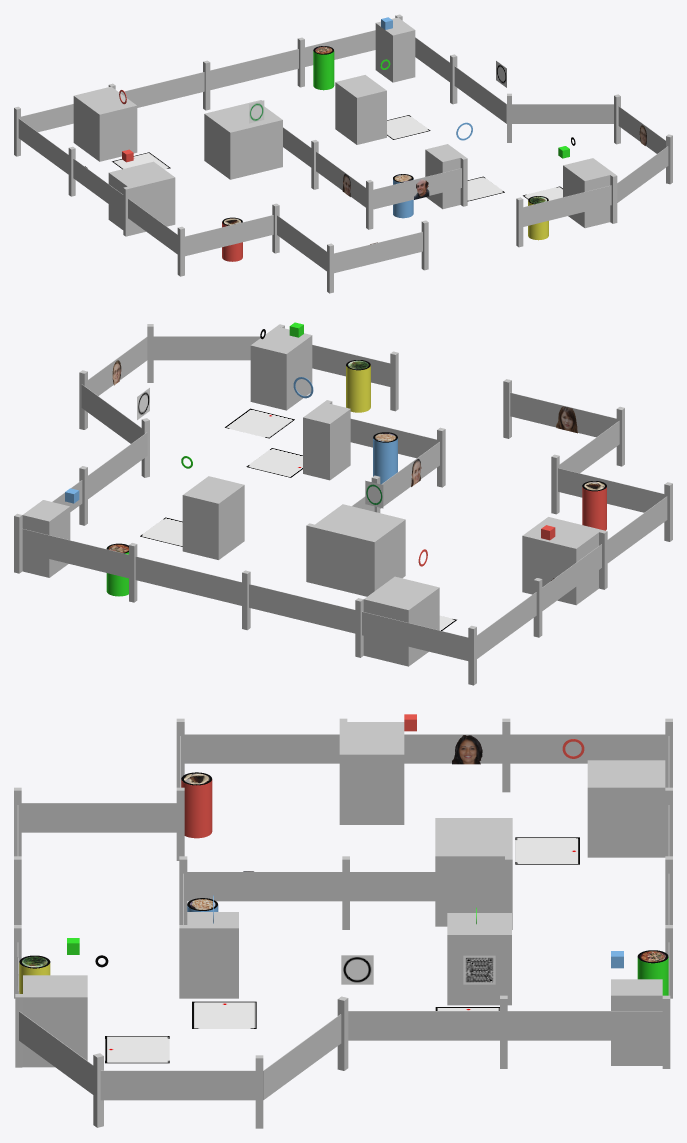
File: rins_task3_3.dae
3 renders of one model, top to bottom at view 1: azimuth 30°, elevation 25°; view 2: azimuth 150°, elevation 25°; view 3: azimuth 270°, elevation 25°, orthographic. The views are drawn at different scales.
Parts seen in each view (by area): view 1: rins_2022_task3_3; view 2: rins_2022_task3_3; view 3: rins_2022_task3_3.
Boxes of the visible parts, box(x1,y1,x2,y2) form: rins_2022_task3_3: box(14, 14, 672, 293); rins_2022_task3_3: box(14, 322, 672, 685); rins_2022_task3_3: box(14, 714, 672, 1128).
Size of the model in its own units: 6.22 by 5.1 by 0.95.
19 materials, 13 textured.
